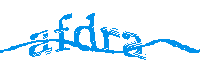a: (122, 29, 147, 60), (29, 30, 53, 57)
d: (73, 11, 98, 52)
f: (52, 12, 72, 52)
r: (99, 26, 120, 55)
